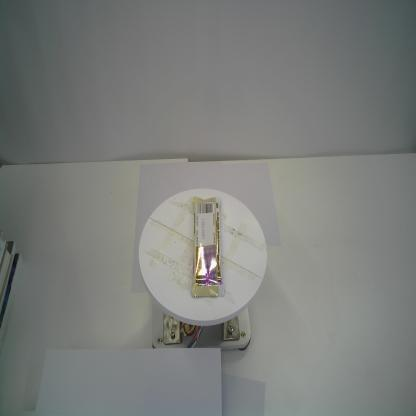Chocolate: (192, 196, 224, 298)
